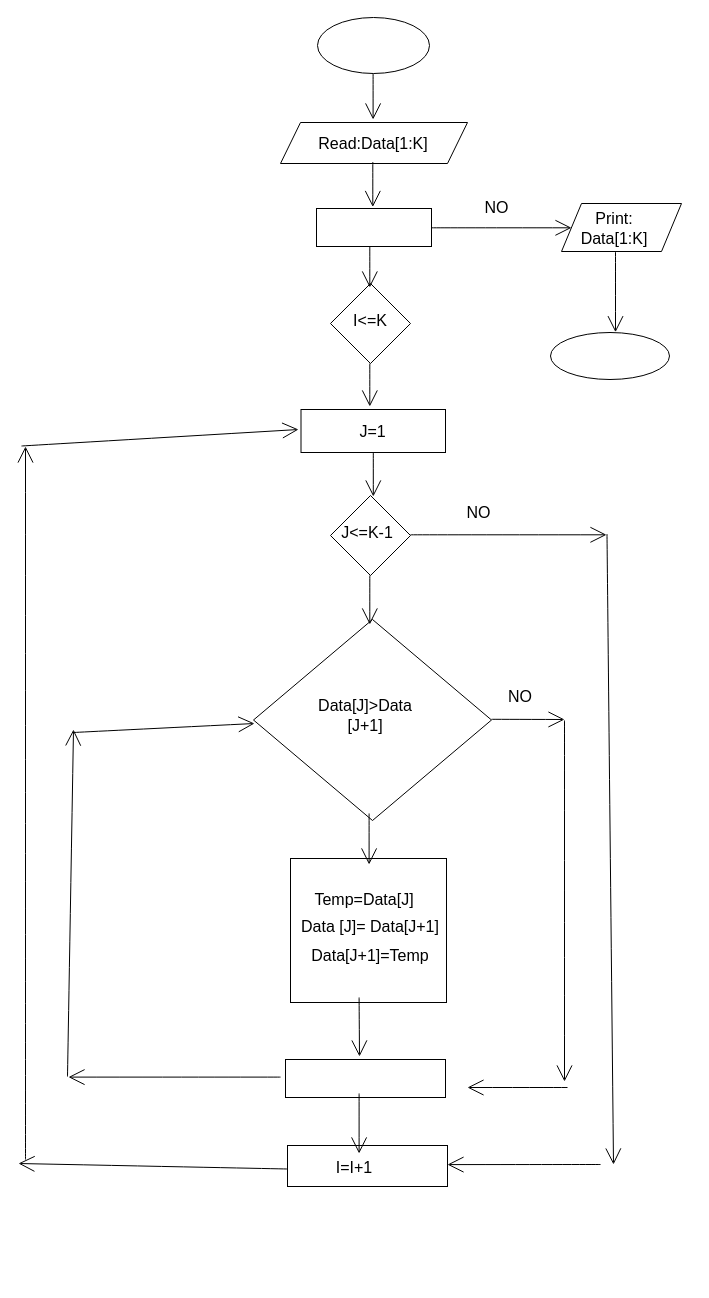
This 709x1298 diagram has some shape labels left out. The box of each missing label's shape, as (x1, y1, x2, y2) in pixels:
i=1: (316, 208, 432, 246)
J=J+1: (284, 1058, 446, 1098)
Start: (316, 16, 430, 74)
Stop: (550, 332, 670, 380)
